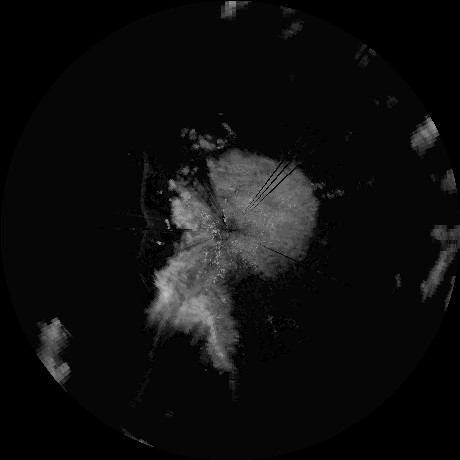frontgust: (138, 160, 156, 238)
